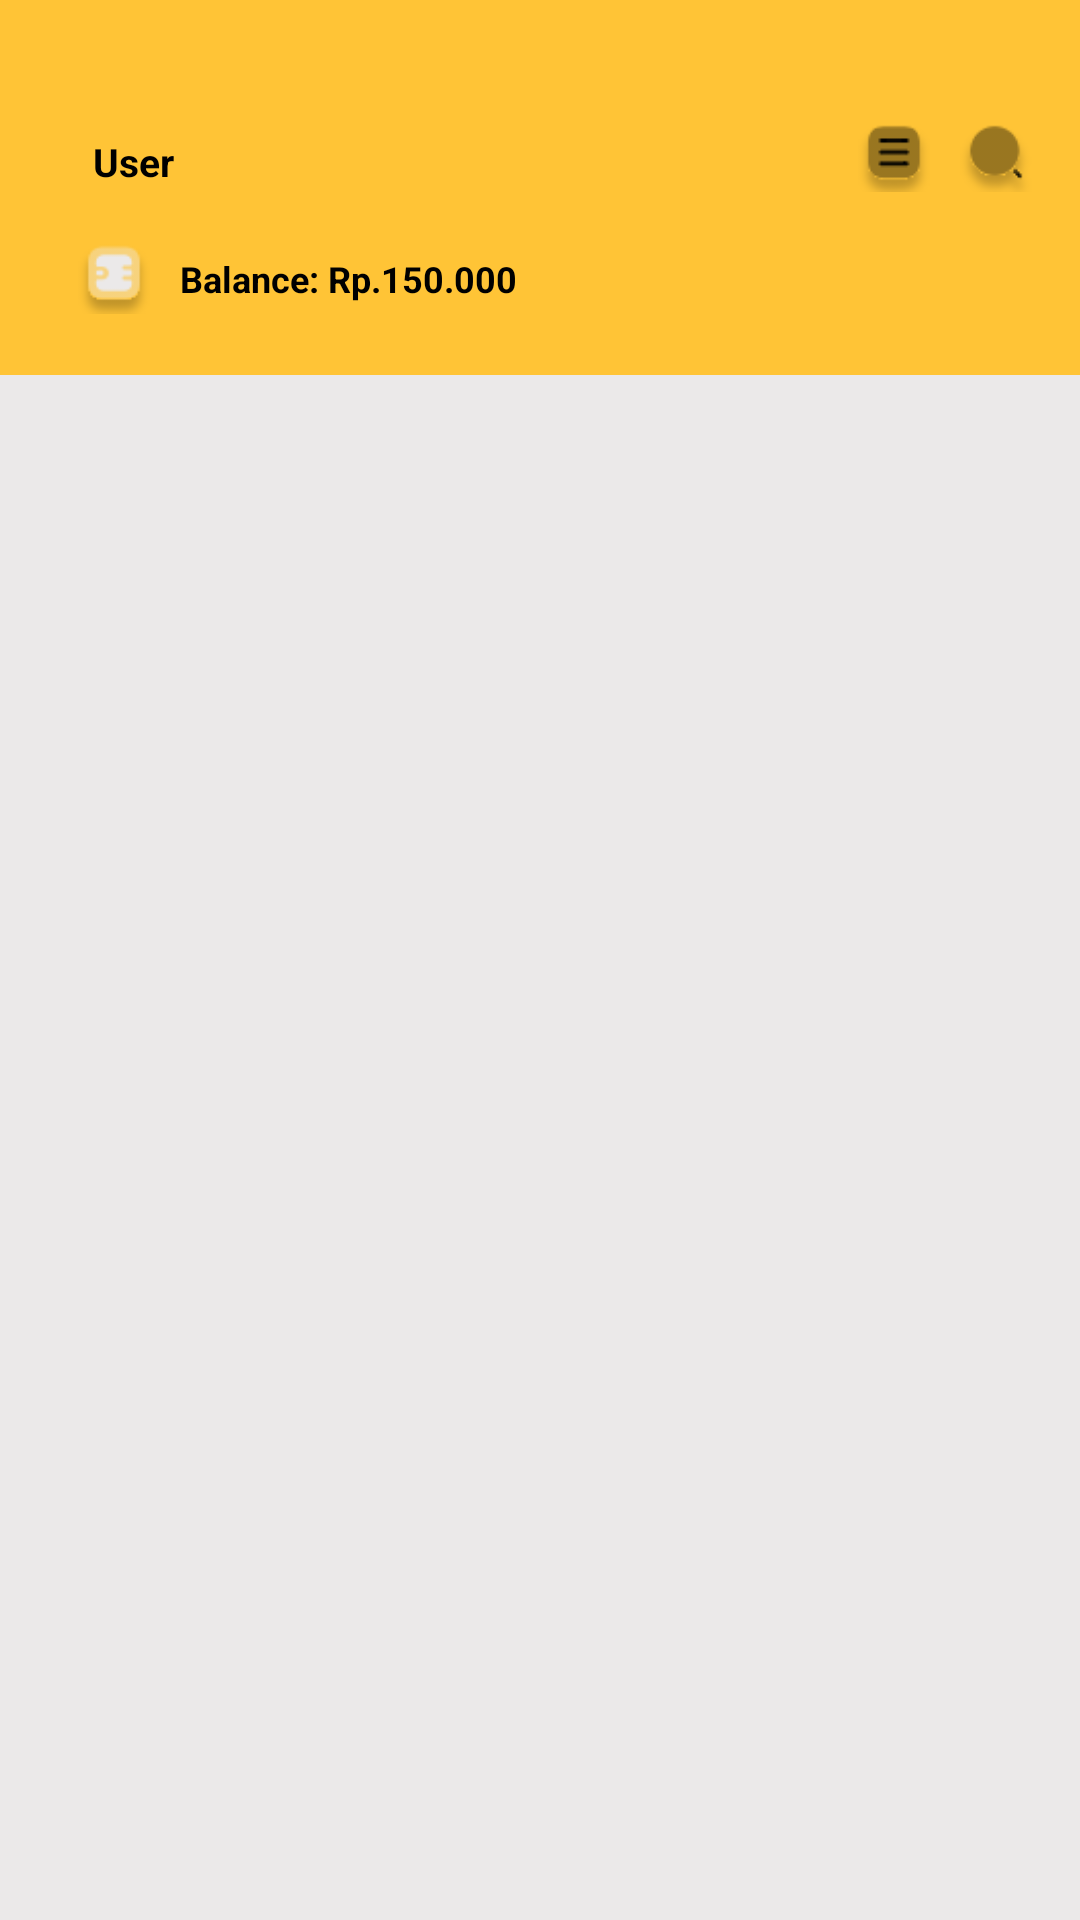

Where to tap for icons on this 1080*1920 app screen, as (x,y):
search: (996,156)
wallet: (114,278)
